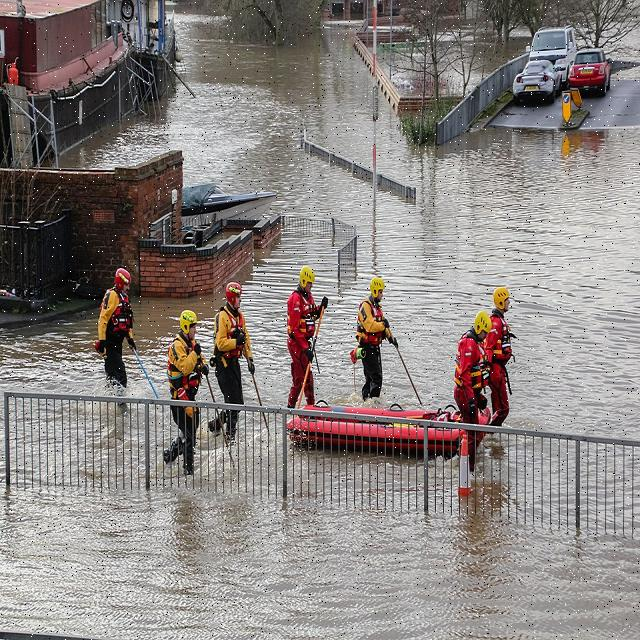rescuer: (445, 299, 491, 497), (160, 304, 203, 476), (278, 263, 320, 428), (214, 277, 250, 450), (99, 255, 139, 400), (352, 273, 386, 416), (488, 275, 514, 449)
